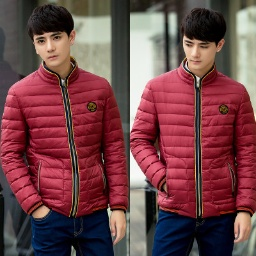face: (25, 3, 78, 68), (178, 7, 232, 70)
